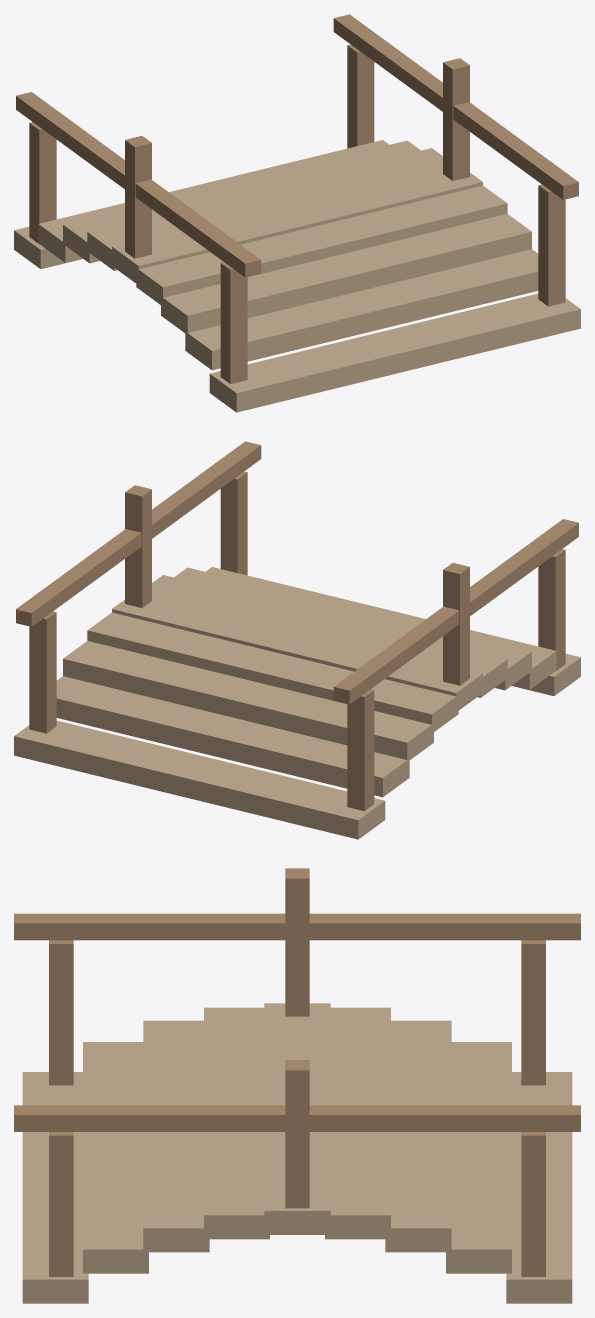
The model's file is bridge_edge.glb.
3 views of the same model, one above another, from view 1: azimuth 30°, elevation 25°; view 2: azimuth 150°, elevation 25°; view 3: azimuth 270°, elevation 25° (orthographic). The views are drawn at different scales.
Parts seen in each view (by area): view 1: bridge_edge_8, bridge_edge_7, bridge_edge_6, bridge_edge_5, bridge_edge_4, bridge_edge_3, bridge_edge_2, bridge_edge_13, bridge_edge_18, bridge_edge_17, bridge_edge_16, bridge_edge_12 (+7 smaller); view 2: bridge_edge_0, bridge_edge_1, bridge_edge_2, bridge_edge_3, bridge_edge_4, bridge_edge_5, bridge_edge_6, bridge_edge_12, bridge_edge_17, bridge_edge_18, bridge_edge_14, bridge_edge_13 (+7 smaller); view 3: bridge_edge_2, bridge_edge_6, bridge_edge_5, bridge_edge_3, bridge_edge_1, bridge_edge_7, bridge_edge_4, bridge_edge_0, bridge_edge_8, bridge_edge_12, bridge_edge_13, bridge_edge_17 (+7 smaller).
Boxes of the visible parts, box(x1,y1,x2,y2) form: bridge_edge_8: box(209, 293, 580, 412); bridge_edge_7: box(185, 249, 538, 370); bridge_edge_6: box(161, 214, 531, 334); bridge_edge_5: box(136, 185, 507, 306); bridge_edge_4: box(112, 165, 482, 284); bridge_edge_3: box(87, 148, 442, 270); bridge_edge_2: box(63, 140, 420, 263); bridge_edge_13: box(135, 179, 261, 277); bridge_edge_18: box(453, 102, 578, 199); bridge_edge_17: box(333, 14, 442, 111); bridge_edge_16: box(538, 184, 565, 306); bridge_edge_12: box(16, 92, 124, 189); bridge_edge_0: box(14, 720, 385, 839); bridge_edge_1: box(56, 676, 409, 797); bridge_edge_2: box(63, 641, 433, 761); bridge_edge_3: box(87, 612, 458, 731); bridge_edge_4: box(112, 592, 482, 710); bridge_edge_5: box(152, 575, 507, 697); bridge_edge_6: box(174, 567, 531, 690); bridge_edge_12: box(333, 606, 459, 704); bridge_edge_17: box(16, 529, 141, 626); bridge_edge_18: box(152, 441, 261, 538); bridge_edge_14: box(29, 611, 56, 733); bridge_edge_13: box(470, 519, 578, 616); bridge_edge_2: box(385, 1020, 451, 1252); bridge_edge_6: box(143, 1020, 209, 1252); bridge_edge_5: box(204, 1007, 269, 1239); bridge_edge_3: box(325, 1007, 390, 1239); bridge_edge_1: box(446, 1042, 511, 1273); bridge_edge_7: box(83, 1042, 148, 1273); bridge_edge_4: box(264, 1003, 330, 1234); bridge_edge_0: box(506, 1072, 572, 1303); bridge_edge_8: box(22, 1072, 88, 1303); bridge_edge_12: box(309, 913, 580, 940); bridge_edge_13: box(14, 913, 285, 940); bridge_edge_17: box(309, 1105, 580, 1131).
Size of the model in its own units: 2.6 by 1.35 by 3.
